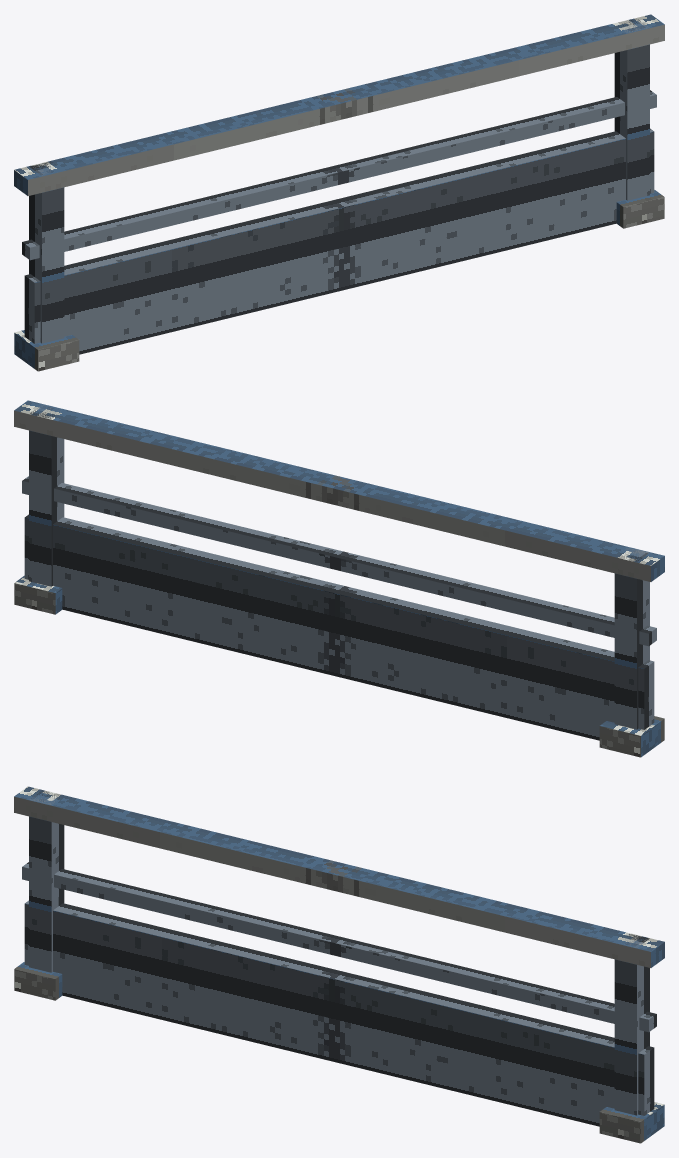
File: sp_skiff_rail.glb
3 renders of one model, top to bottom at view 1: azimuth 30°, elevation 25°; view 2: azimuth 150°, elevation 25°; view 3: azimuth 330°, elevation 25°, orthographic.
Visible parts, largest first — view 1: rail_panel, rail_cap, rail_mid, rail_post_-1, rail_post_1, rail_mount_-1, rail_mount_1; view 2: rail_panel, rail_cap, rail_mid, rail_post_-1, rail_post_1, rail_mount_-1, rail_mount_1; view 3: rail_panel, rail_cap, rail_mid, rail_post_1, rail_post_-1, rail_mount_1, rail_mount_-1.
Boxes of the visible parts, left/top/right/bottom form: rail_panel: left=24, top=128, right=654, bottom=354; rail_cap: left=14, top=14, right=664, bottom=195; rail_mid: left=22, top=90, right=656, bottom=260; rail_post_-1: left=29, top=161, right=64, bottom=343; rail_post_1: left=614, top=19, right=649, bottom=200; rail_mount_-1: left=14, top=330, right=79, bottom=371; rail_mount_1: left=616, top=189, right=664, bottom=228; rail_panel: left=24, top=514, right=654, bottom=740; rail_cap: left=14, top=400, right=664, bottom=581; rail_mid: left=22, top=476, right=656, bottom=646; rail_post_-1: left=614, top=548, right=649, bottom=729; rail_post_1: left=29, top=405, right=64, bottom=586; rail_mount_-1: left=599, top=716, right=664, bottom=757; rail_mount_1: left=14, top=575, right=62, bottom=614; rail_panel: left=24, top=900, right=654, bottom=1126; rail_cap: left=14, top=786, right=664, bottom=967; rail_mid: left=22, top=862, right=656, bottom=1032; rail_post_1: left=614, top=934, right=649, bottom=1115; rail_post_-1: left=29, top=790, right=64, bottom=972; rail_mount_1: left=599, top=1102, right=664, bottom=1143; rail_mount_-1: left=14, top=961, right=62, bottom=1000.
Size of the model in its own units: 3.7 by 1.05 by 0.24.
2 materials, 2 textured.
